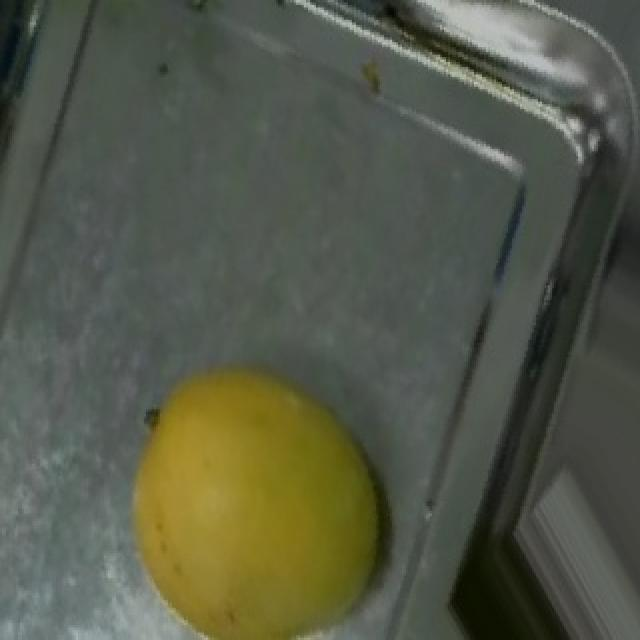fruit: (94, 325, 438, 640)
